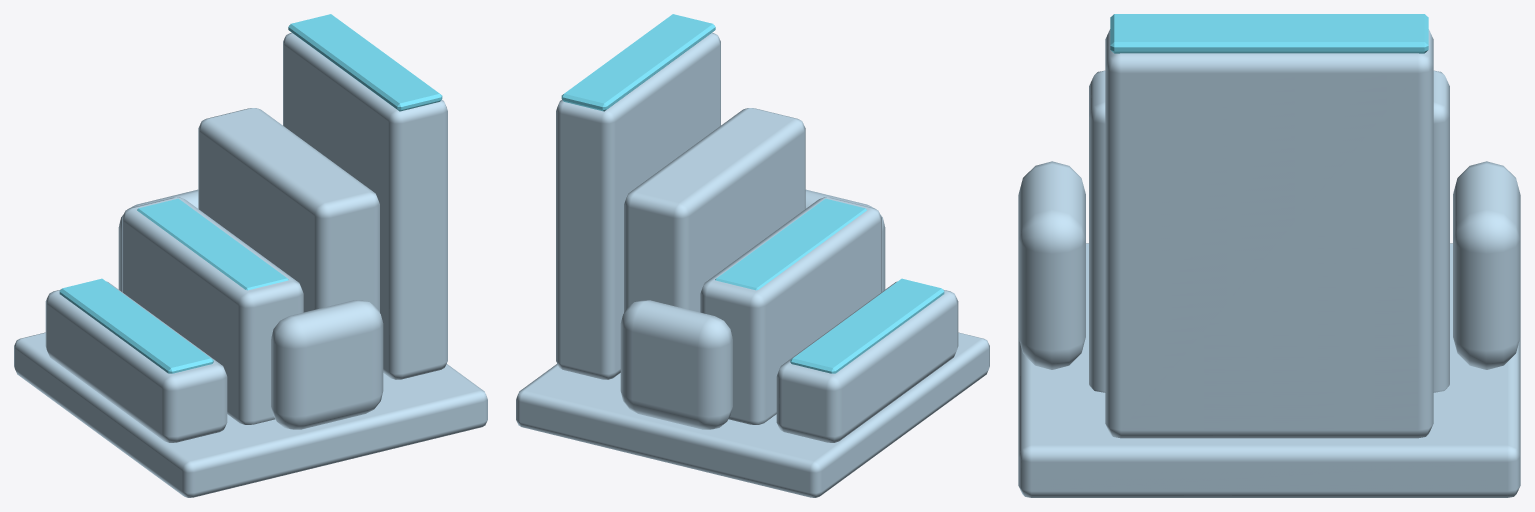
The model's file is R4X_ModuleAmplifier.glb.
The picture shows the model from 3 angles, left to right: view 1: azimuth 30°, elevation 25°; view 2: azimuth 150°, elevation 25°; view 3: azimuth 270°, elevation 25°; orthographic projection. The views are drawn at different scales.
Visible parts, largest first — view 1: R4X_ModuleAmplifier_Body; view 2: R4X_ModuleAmplifier_Body; view 3: R4X_ModuleAmplifier_Body.
Part boxes in pixels (x1,y1,x2,y2): R4X_ModuleAmplifier_Body: [14, 14, 487, 497]; R4X_ModuleAmplifier_Body: [516, 14, 989, 497]; R4X_ModuleAmplifier_Body: [1018, 14, 1520, 497].
Size of the model in its own units: 0.52 by 0.5126 by 0.52.
